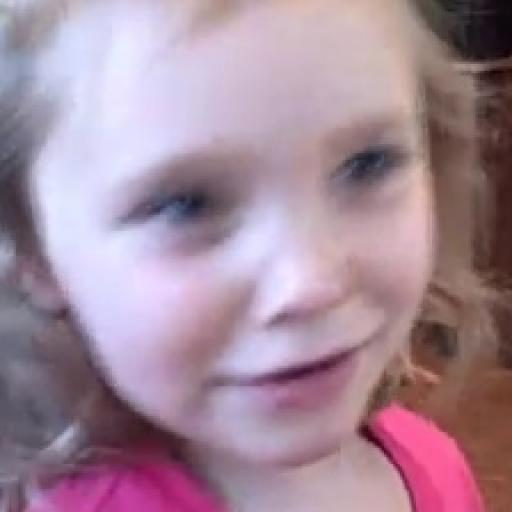Autism: (14, 0, 507, 448)
